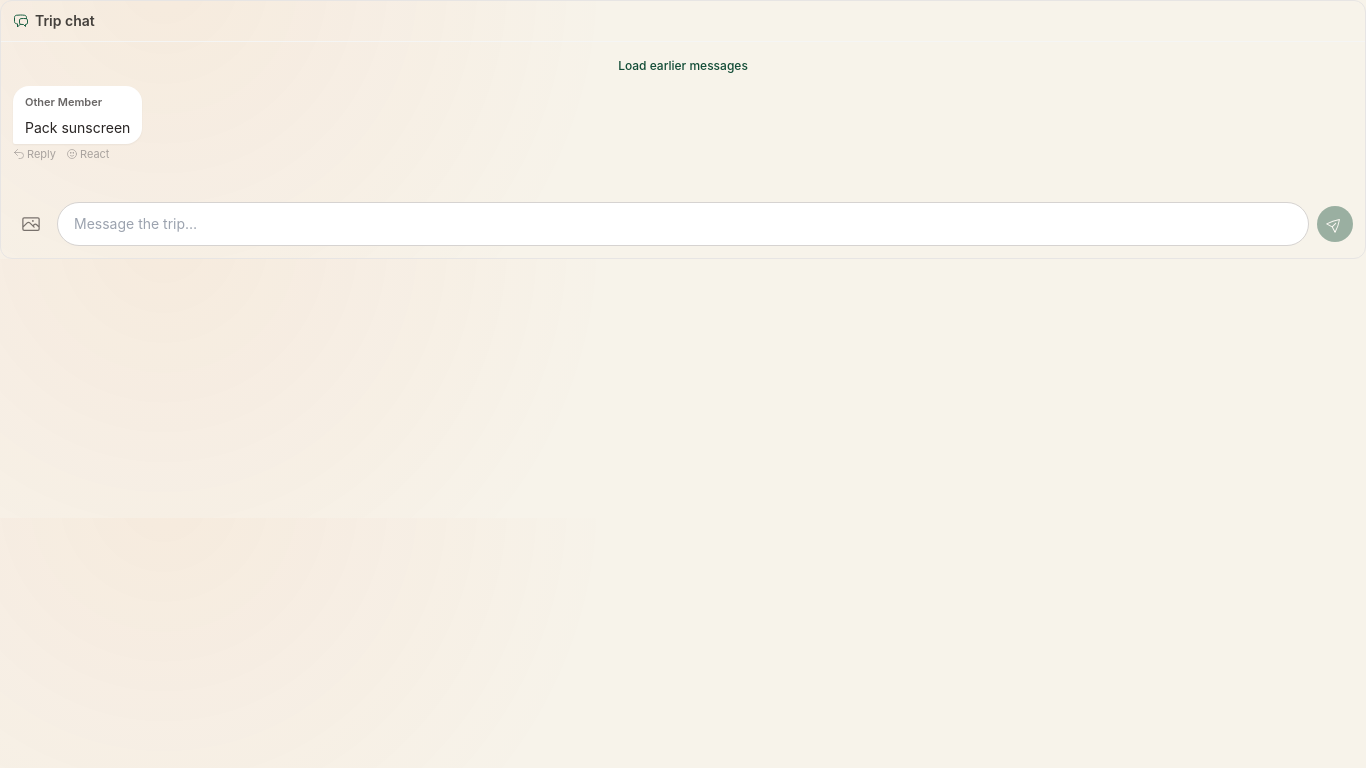
Test: TripChatPanel › includes the replied-to message id when sending a reply
This screenshot has width=1366, height=768.
Expected: the text "Pack sunscreen" is shown, [25,119,130,136]
Click the button "Reply": [34, 154] box [13,146,56,162]
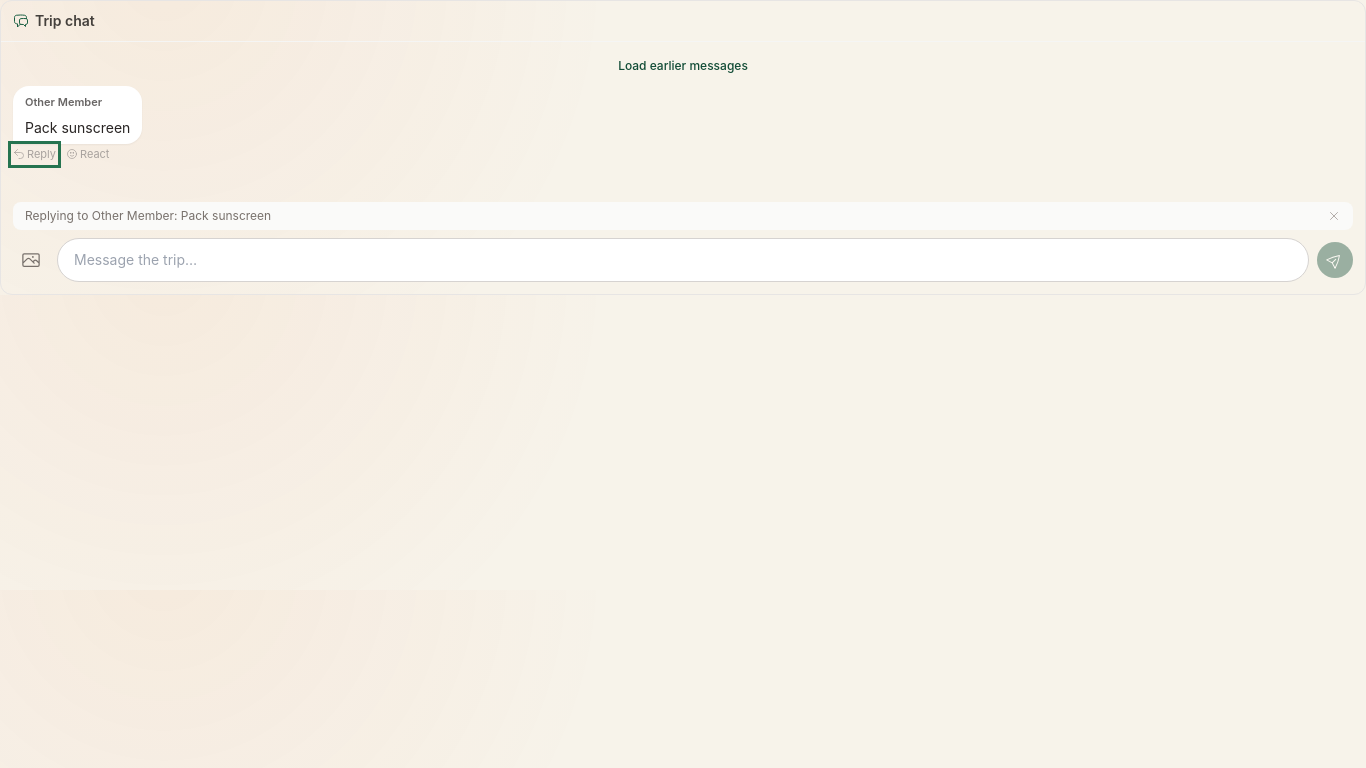
Expected: the text "Replying to Other Member: Pack sunscreen" is shown, [25,208,271,224]
In the field with placeholder "Message the trip…": [683, 260] box [57,238,1309,282], type "Will do!"
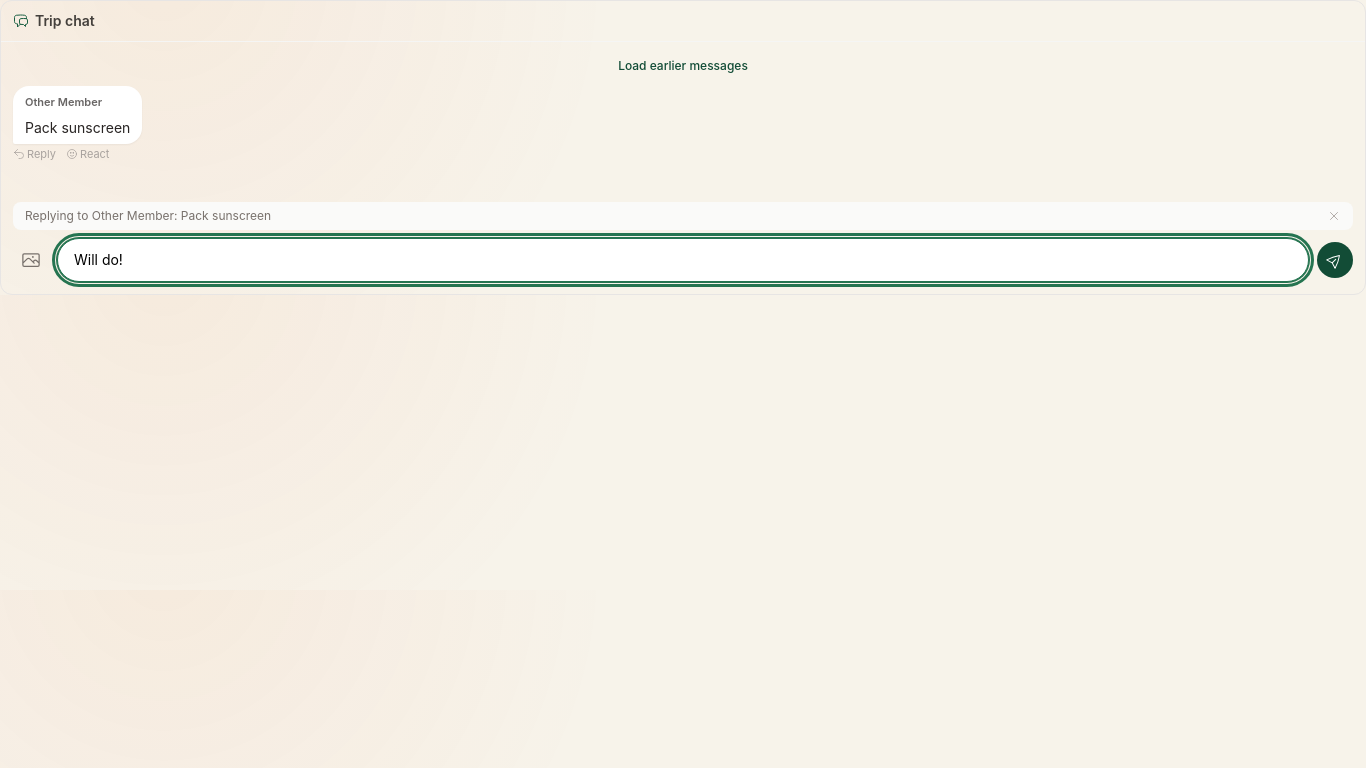
Click the button named "send message": [1335, 260] box [1317,242,1353,278]
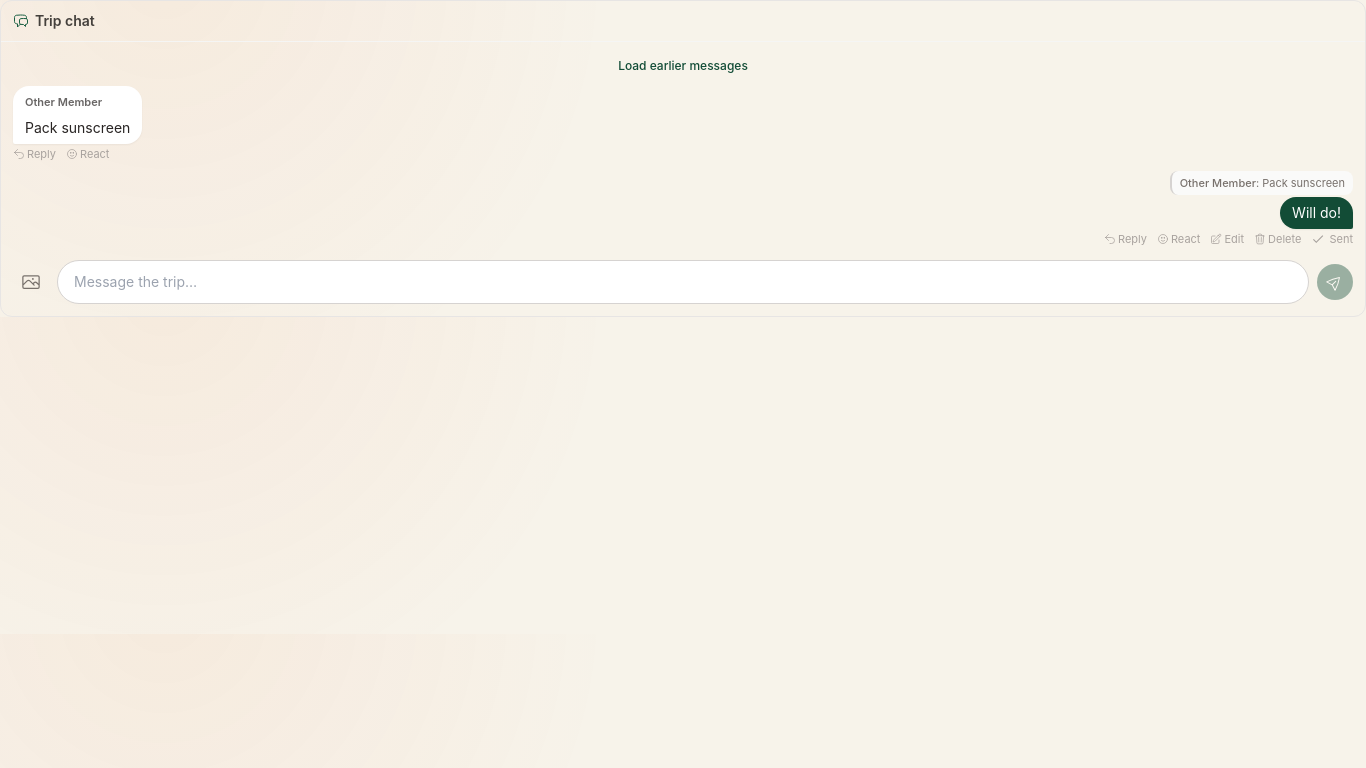
Expected: the text "Will do!" is shown, [1292,204,1341,221]
